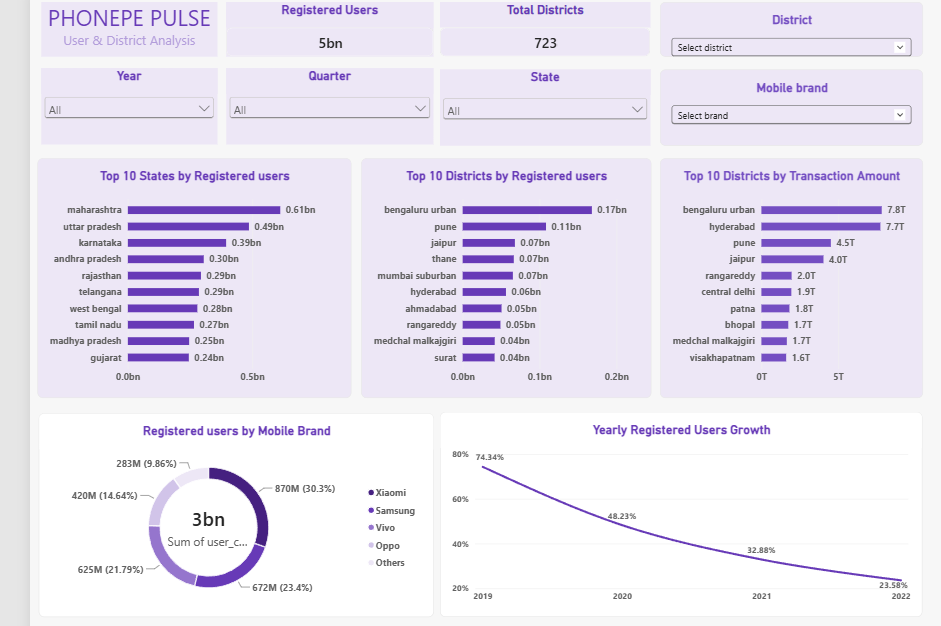

The page's visual inventory and layout, read from the dashboard file:
{"tool":"powerbi","page":{"name":"User & District Analysis","canvas":[1920,1080],"ordinal":2},"visuals":[{"type":"textbox","box":[16.3,14.4,254.8,78.8],"z":0},{"type":"slicer","title":"Year","fields":{"Values":["Dimyear.year"]},"box":[16.3,109.6,254.8,110.6],"z":1},{"type":"slicer","title":"Quarter","fields":{"Values":["Dimquarter.Quarter"]},"box":[283.7,110.6,300,110.6],"z":2},{"type":"slicer","title":"State","fields":{"Values":["Dimstate.State"]},"box":[594.2,111.5,304.8,110.6],"z":3},{"type":"cardVisual","title":"Registered Users","fields":{"Data":["Sum(map_user.registered_user_counts)"]},"box":[283.7,14.4,300,78.8],"z":4},{"type":"cardVisual","title":"Total Districts","fields":{"Data":["Count(map_user.district)"]},"box":[594.2,14.4,304.8,78.8],"z":5},{"type":"clusteredBarChart","title":"Top 10 States by Registered users ","fields":{"Category":["Dimstate.State"],"Y":["Sum(map_user.registered_user_counts)"]},"box":[11.1,240.7,454.3,346.9],"z":6},{"type":"clusteredBarChart","title":"Top 10 Districts by Registered users","fields":{"Category":["DimDistrict.district"],"Y":["map_user.Total Registered Users"]},"box":[479,240.7,419.8,346.9],"z":7},{"type":"donutChart","title":"Registered users by Mobile Brand","fields":{"Category":["aggregated_user.brand"],"Y":["Sum(aggregated_user.user_counts)"]},"box":[11.8,610.3,572.1,295.6],"z":8},{"type":"lineChart","title":"Yearly Registered Users Growth","fields":{"Category":["Dimyear.year"],"Y":["map_user.YoY Registered Users Growth %"]},"box":[594.1,608.8,698.5,297.1],"z":9},{"type":"clusteredBarChart","title":"Top 10 Districts by Transaction Amount","fields":{"Category":["top_transaction.district"],"Y":["Sum(top_transaction.amount)"]},"box":[911.8,241.2,381.2,347.1],"z":10},{"type":"listSlicer","title":"District","fields":{"Values":["DimDistrict.district"]},"box":[911.8,14.1,381.2,78.8],"z":11},{"type":"listSlicer","title":"Mobile brand","fields":{"Values":["aggregated_user.brand"]},"box":[911.8,111.8,381.2,110.6],"z":12}]}

Visuals, with their boxes on the page's 1920x1080 design canvas (x1, y1, x2, y2). These are canvas units, not pixel positions in the 941x626 screenshot, which may show the page scaled, cropped or inside an application window:
textbox: 16,14,271,93
"Year" slicer: 16,110,271,220
"Quarter" slicer: 284,111,584,221
"State" slicer: 594,112,899,222
"Registered Users" cardVisual: 284,14,584,93
"Total Districts" cardVisual: 594,14,899,93
"Top 10 States by Registered users " clusteredBarChart: 11,241,465,588
"Top 10 Districts by Registered users" clusteredBarChart: 479,241,899,588
"Registered users by Mobile Brand" donutChart: 12,610,584,906
"Yearly Registered Users Growth" lineChart: 594,609,1293,906
"Top 10 Districts by Transaction Amount" clusteredBarChart: 912,241,1293,588
"District" listSlicer: 912,14,1293,93
"Mobile brand" listSlicer: 912,112,1293,222
